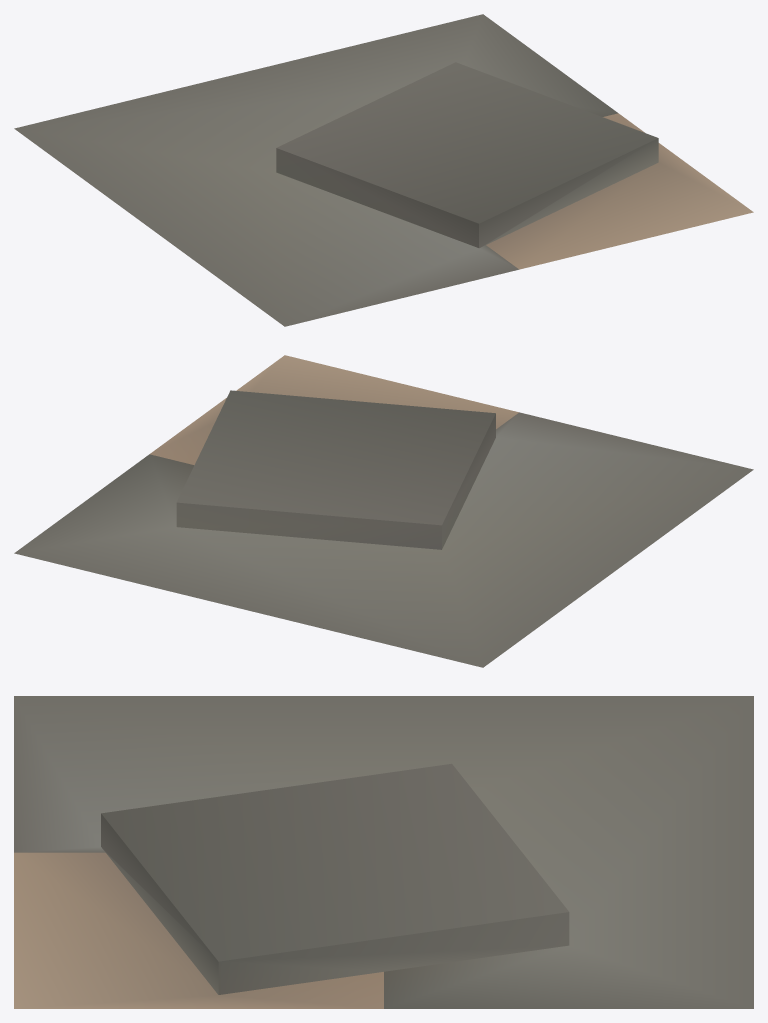
File: road-dirt-damaged.glb
The picture shows the model from 3 angles, top to bottom: view 1: azimuth 30°, elevation 25°; view 2: azimuth 150°, elevation 25°; view 3: azimuth 270°, elevation 25°; orthographic projection. The views are drawn at different scales.
Visible parts, largest first — view 1: road-dirt-damaged; view 2: road-dirt-damaged; view 3: road-dirt-damaged.
Boxes of the visible parts, x1,y1,x2,y2 form: road-dirt-damaged: [14, 14, 753, 326]; road-dirt-damaged: [14, 355, 753, 667]; road-dirt-damaged: [14, 696, 753, 1008].
Bounding box in the file's own units: 1 × 0.05 × 1.
